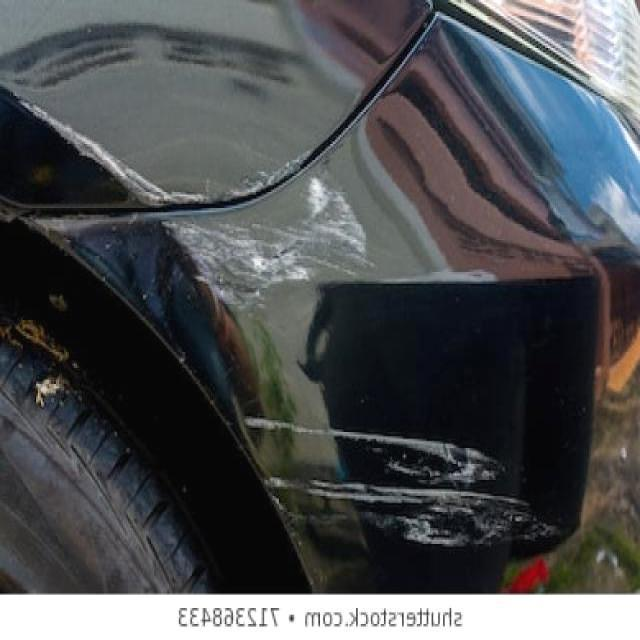minor: (77, 156, 95, 177)
moderate: (256, 415, 548, 551), (143, 169, 390, 328), (28, 107, 163, 193)
